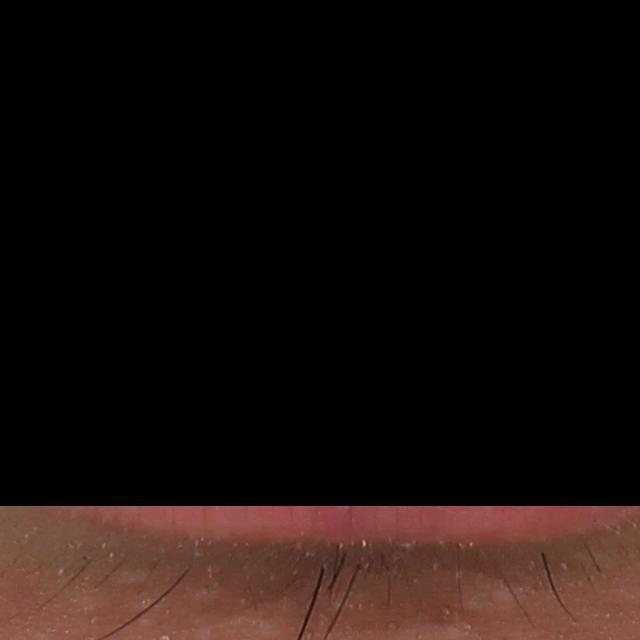hypertrophic_scar: (452, 579, 533, 620), (108, 568, 154, 589), (191, 581, 223, 604)
